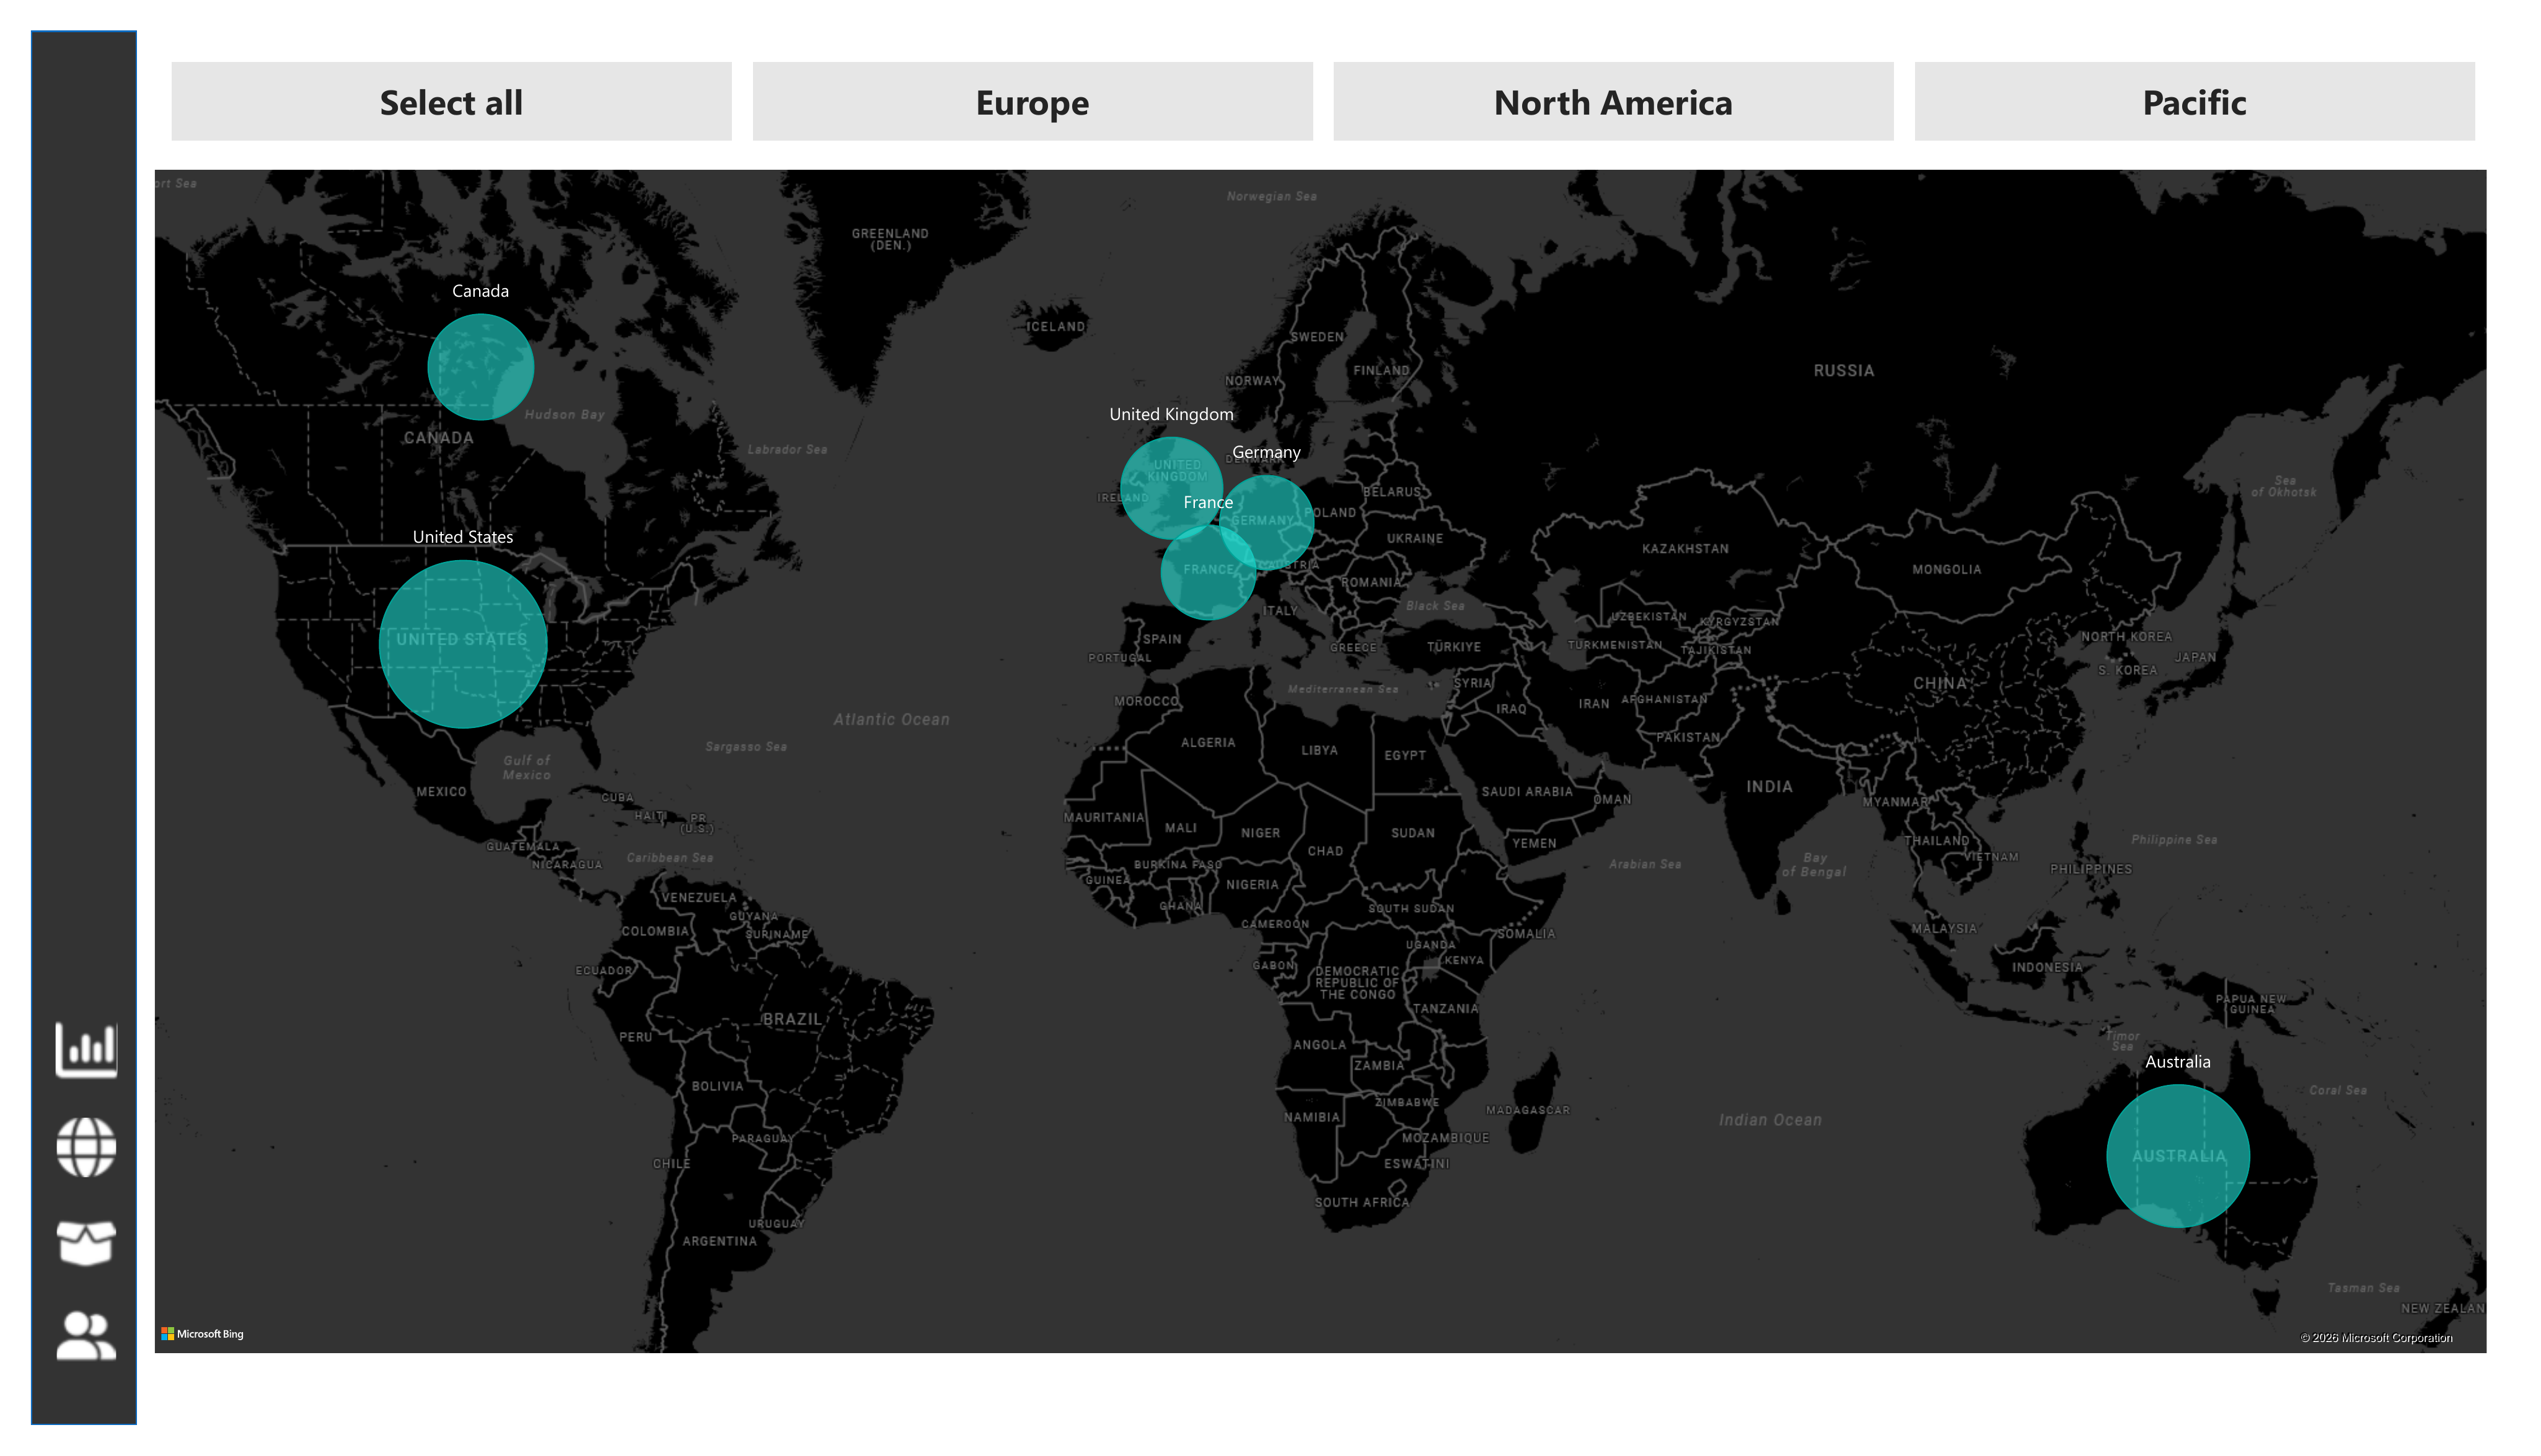

What the dashboard file says about the page in this screenshot:
{"tool":"powerbi","page":{"name":"Map","canvas":[1920,1080],"ordinal":1},"visuals":[{"type":"shape","box":[0,0,81.8,1079.5],"z":0},{"type":"actionButton","box":[2,752.2,81.1,75],"z":0,"group":"g1"},{"type":"map","fields":{"Category":["Territory Lookup.Country"],"Size":["Measure Table.Total Orders"]},"box":[80,94,1838,984],"z":1000},{"type":"actionButton","box":[2,827.2,81.1,75],"z":1000,"group":"g1"},{"type":"slicer","fields":{"Values":["Territory Lookup.Continent"]},"box":[80.9,14.9,1838.3,78.7],"z":2000},{"type":"actionButton","box":[2,902.2,81.1,75],"z":2000,"group":"g1"},{"type":"group","id":"g1","title":"Navigation Buttons","box":[2,752.2,81.1,296],"z":3000},{"type":"actionButton","box":[2,973.2,81.1,75],"z":3000,"group":"g1"}]}

Visuals, with their boxes on the page's 1920x1080 design canvas (x1, y1, x2, y2). These are canvas units, not pixel positions in the 2541x1456 screenshot, which may show the page scaled, cropped or inside an application window:
shape: Rect(0, 0, 82, 1080)
actionButton: Rect(2, 752, 83, 827)
map - Territory Lookup.Country x Measure Table.Total Orders: Rect(80, 94, 1918, 1078)
actionButton: Rect(2, 827, 83, 902)
slicer - Territory Lookup.Continent: Rect(81, 15, 1919, 94)
actionButton: Rect(2, 902, 83, 977)
"Navigation Buttons" group: Rect(2, 752, 83, 1048)
actionButton: Rect(2, 973, 83, 1048)
